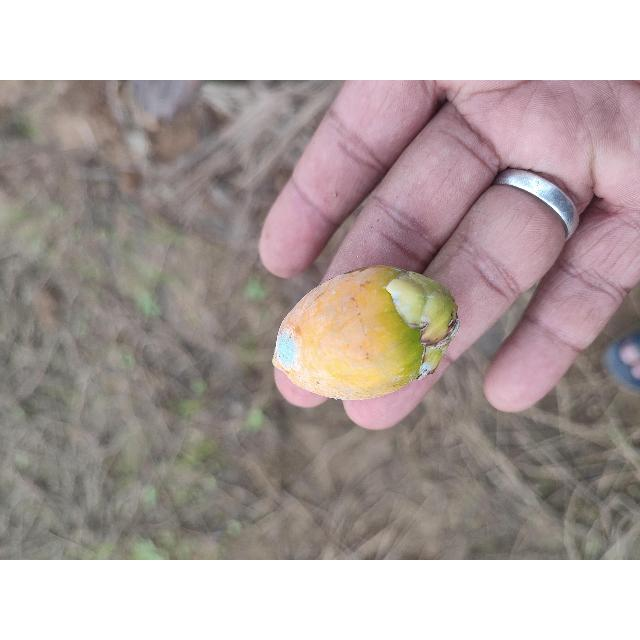good: (267, 266, 456, 399)
